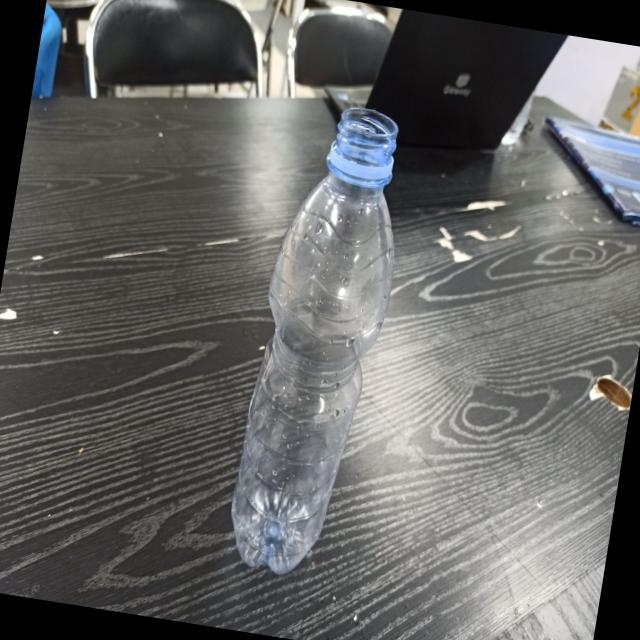BotolPlastik: (220, 95, 420, 585)
